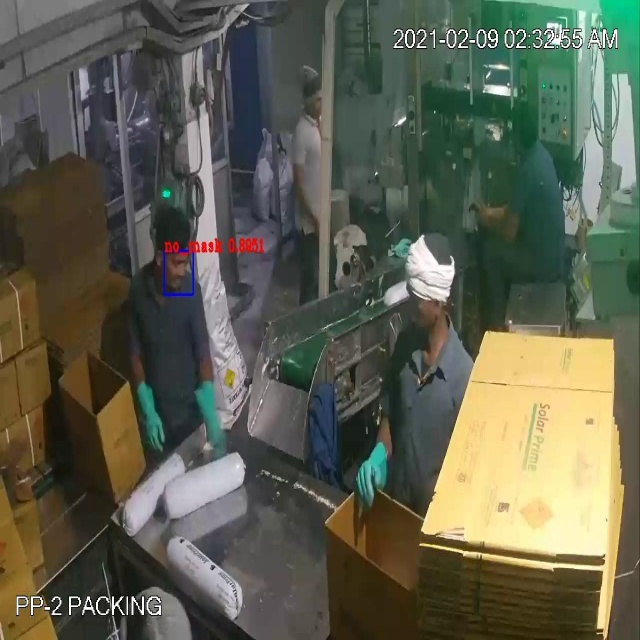Guantes: (334, 426, 404, 518), (124, 372, 178, 460), (194, 362, 233, 474)
Sin_guantes: (464, 187, 526, 251), (286, 148, 323, 232)
